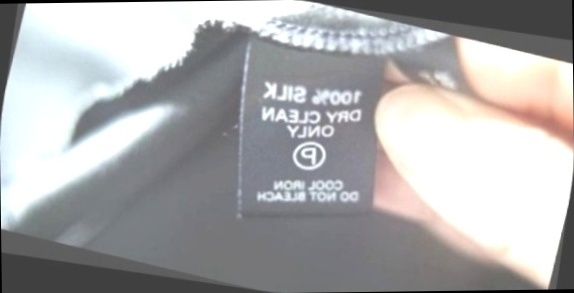dry_clean_any_solvent_except_trichloroethylene: (285, 132, 332, 177)
